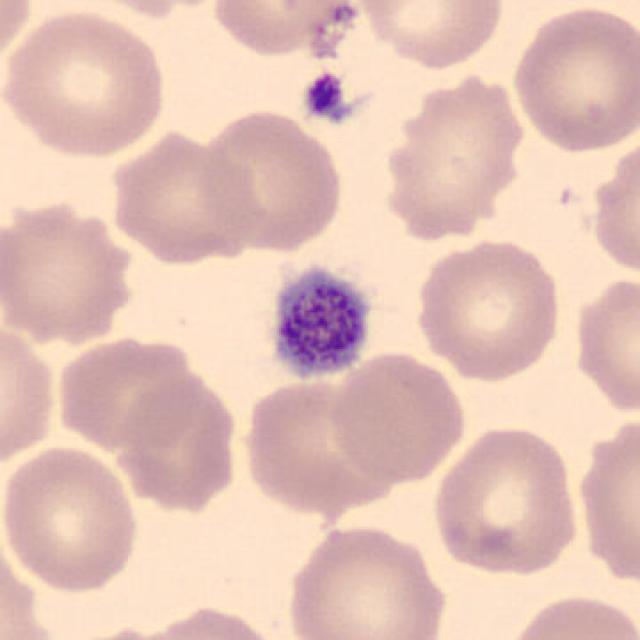Platelets: (263, 262, 373, 382), (299, 71, 352, 125)
RBC: (0, 6, 171, 160), (378, 65, 530, 236), (429, 422, 583, 578), (194, 104, 348, 256), (411, 232, 565, 382), (0, 441, 142, 596), (105, 125, 261, 266), (0, 194, 140, 345), (250, 383, 398, 525), (281, 520, 453, 640), (507, 2, 638, 155), (326, 347, 470, 485), (52, 330, 205, 453), (115, 369, 241, 513), (571, 407, 638, 598), (354, 0, 508, 71), (569, 270, 640, 420), (0, 317, 60, 472), (208, 0, 359, 60), (586, 125, 640, 285), (502, 589, 638, 640), (126, 601, 290, 640), (0, 0, 37, 86), (81, 0, 243, 19), (55, 624, 187, 640)
